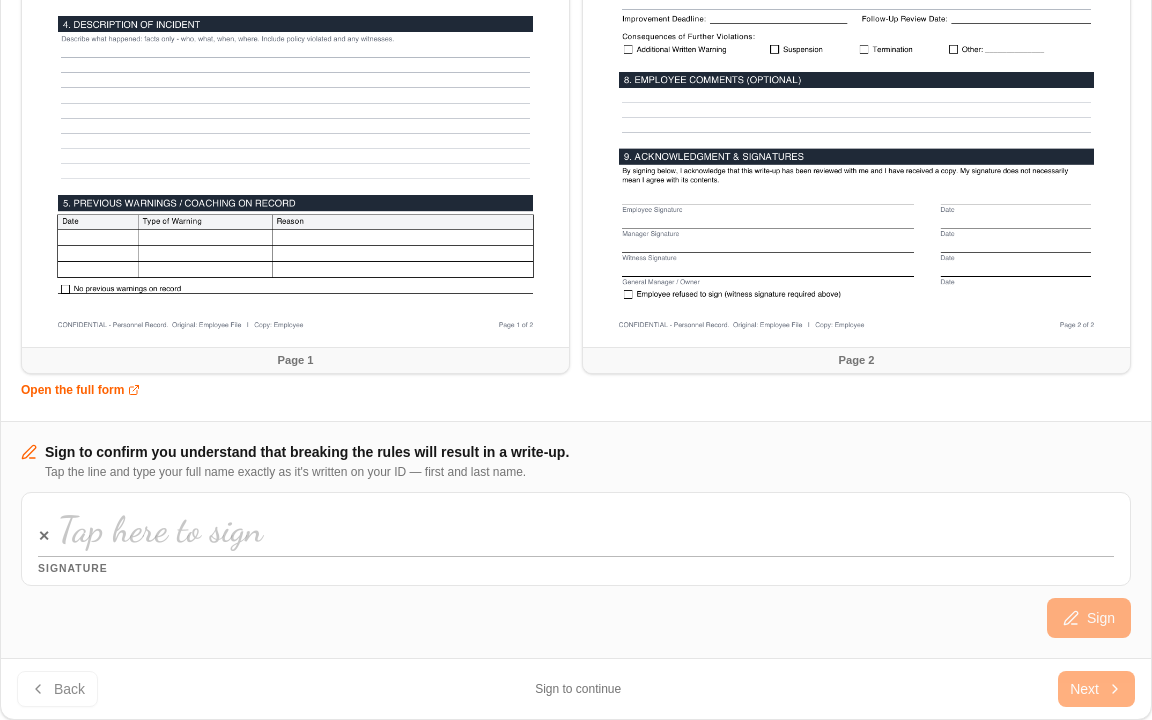
Test case: RulesSlideshow › turns away random letters without asking the server
(page scrolled)
Type "qwerty asdf" into the field named "Your signature" at (586, 530), box [58,507,1114,552]
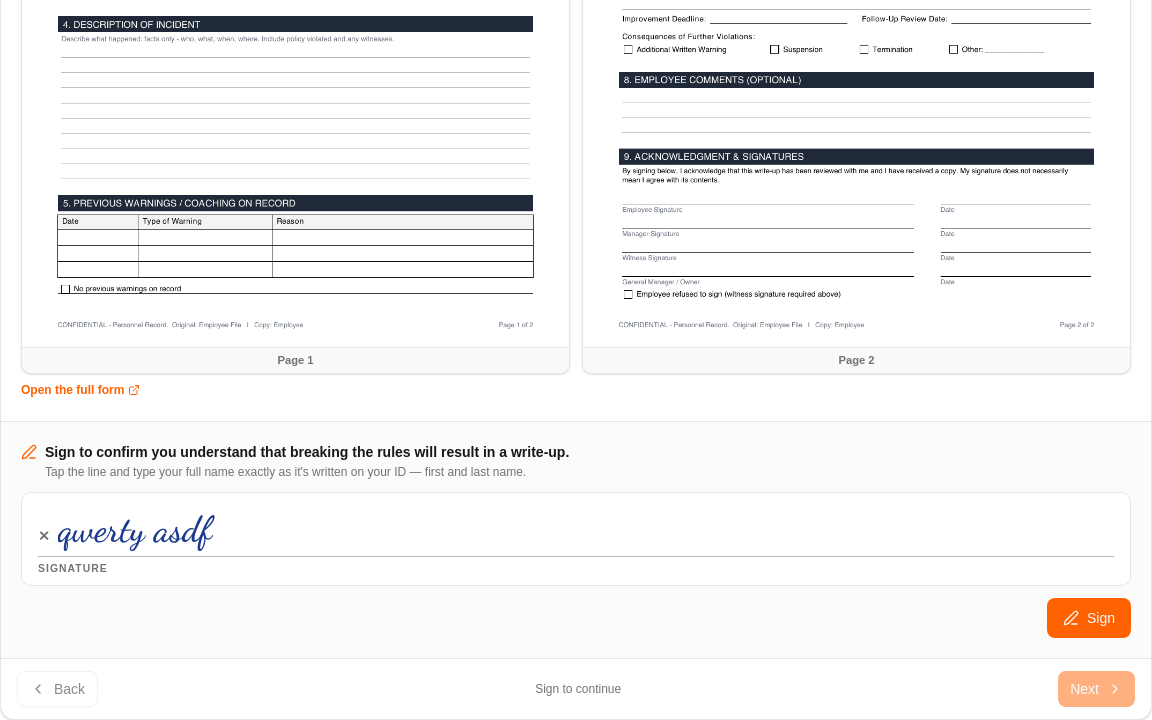
Click the button "Sign" at (1089, 618), box [1047,598,1131,638]
(page scrolled)
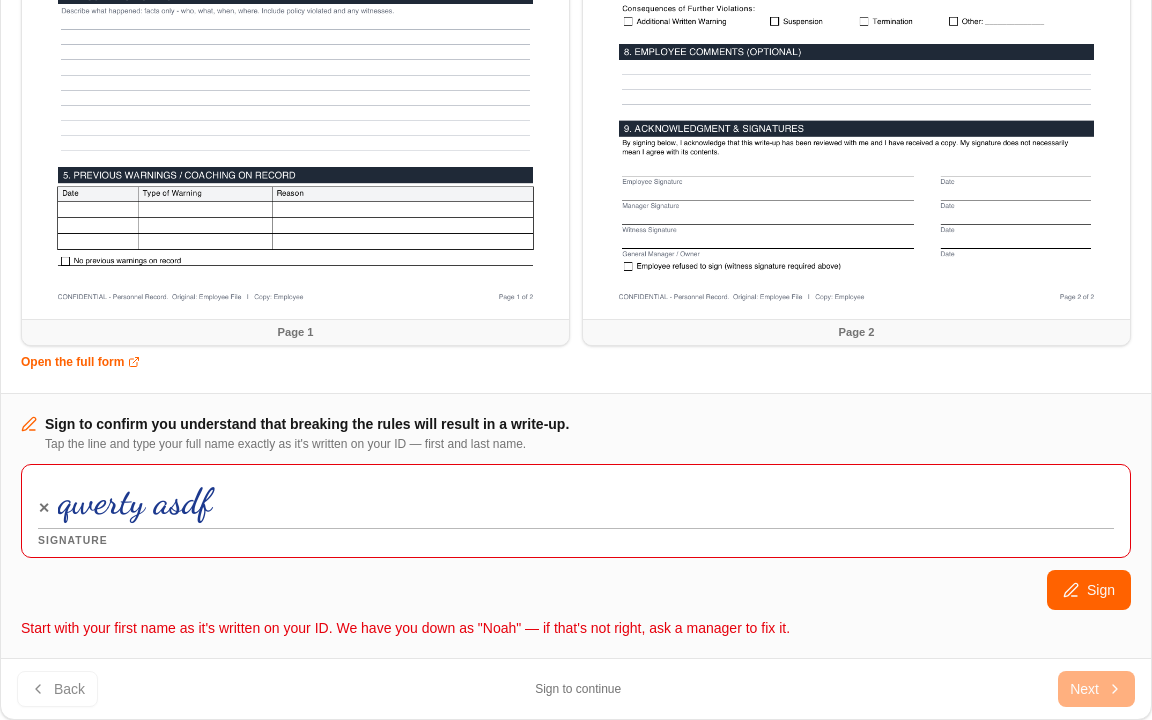
Expected: the button "Next" is disabled, [1058,671,1135,707]
Expected: the message shows "first name", [21,620,790,636]
